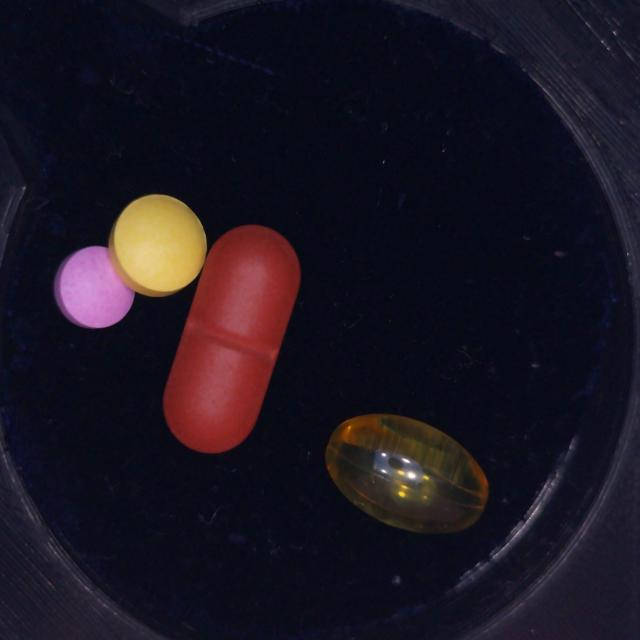Pill: (163, 225, 300, 453), (326, 414, 489, 533), (109, 194, 207, 296), (54, 246, 135, 328)
